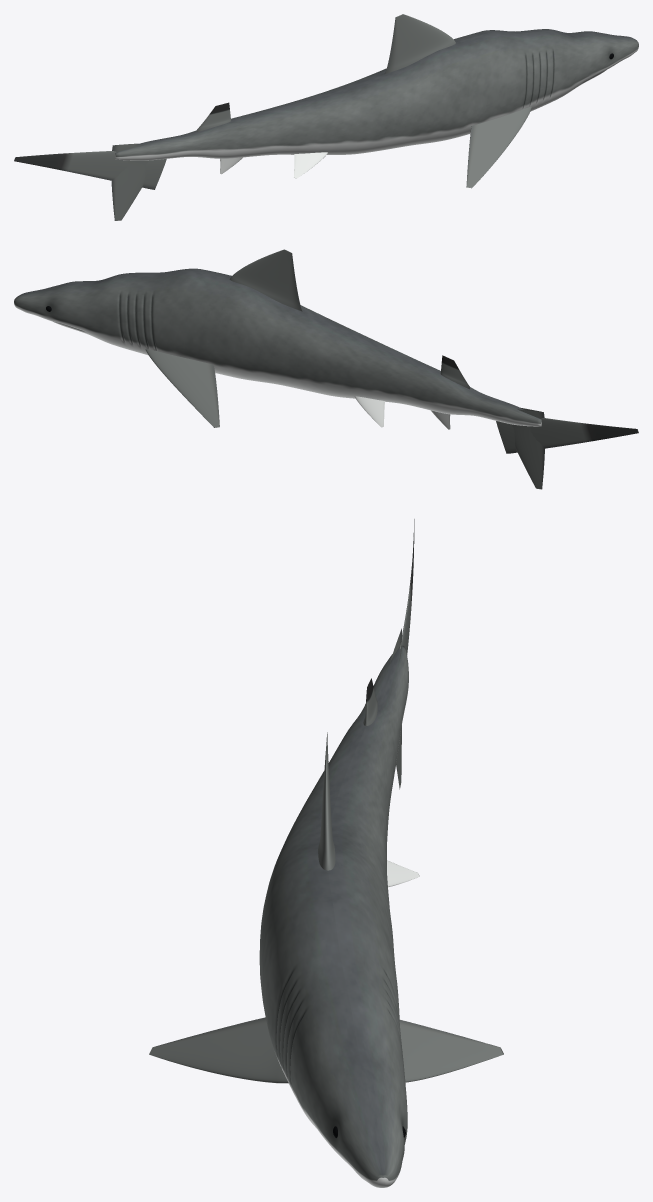
File: atlantic_sharpnose_shark.glb
The picture shows the model from 3 angles, top to bottom: view 1: azimuth 30°, elevation 25°; view 2: azimuth 150°, elevation 25°; view 3: azimuth 270°, elevation 25°; orthographic projection. The views are drawn at different scales.
Visible parts, largest first — view 1: atlantic_sharpnose_shark_Body, atlantic_sharpnose_shark_Fins; view 2: atlantic_sharpnose_shark_Body, atlantic_sharpnose_shark_Fins; view 3: atlantic_sharpnose_shark_Body, atlantic_sharpnose_shark_Fins.
Boxes of the visible parts, <box> form: atlantic_sharpnose_shark_Body: <box>115,29,638,160</box>; atlantic_sharpnose_shark_Fins: <box>14,14,531,220</box>; atlantic_sharpnose_shark_Body: <box>14,268,541,426</box>; atlantic_sharpnose_shark_Fins: <box>145,249,638,489</box>; atlantic_sharpnose_shark_Body: <box>259,645,408,1187</box>; atlantic_sharpnose_shark_Fins: <box>149,519,503,1083</box>.
Bounding box in the file's own units: 0.95 × 0.2292 × 0.2371.
Materials: 3 (1 with a texture image).
